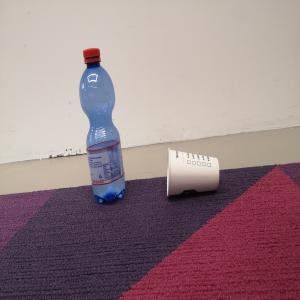Cup: (168, 149, 221, 199)
Plastic-bottle: (79, 48, 127, 207)
